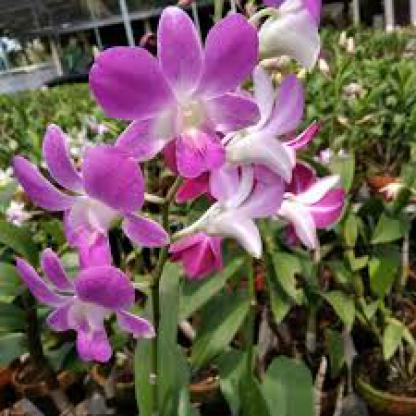ANGGREK: (43, 16, 369, 378)
